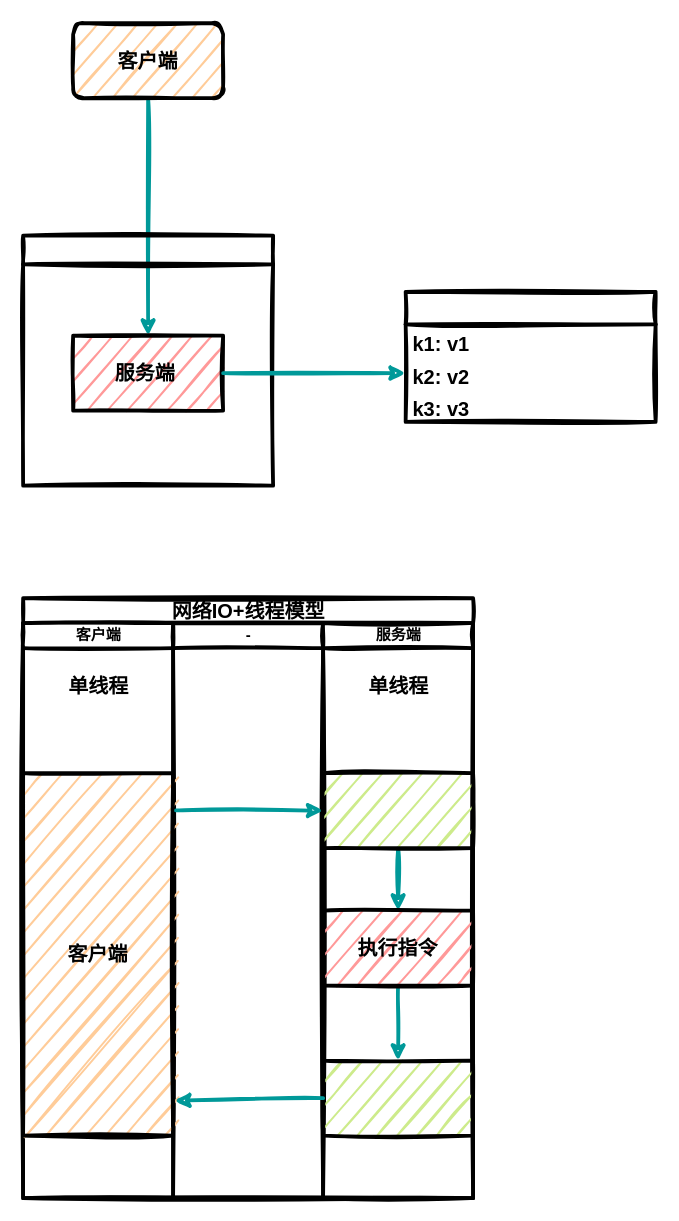
The diagram is 679 pixels wide and 1221 high, and some of its shapes have lost their labels. The shapes that lost their labels are listed below. From the top down, each one's box as (x1, y1, x2, y2) in pixels, then its label:
(21, 233, 274, 487): KV-Storage
(403, 289, 657, 423): 内存
(321, 771, 474, 849): Socket
(321, 1058, 474, 1137): 返回响应
